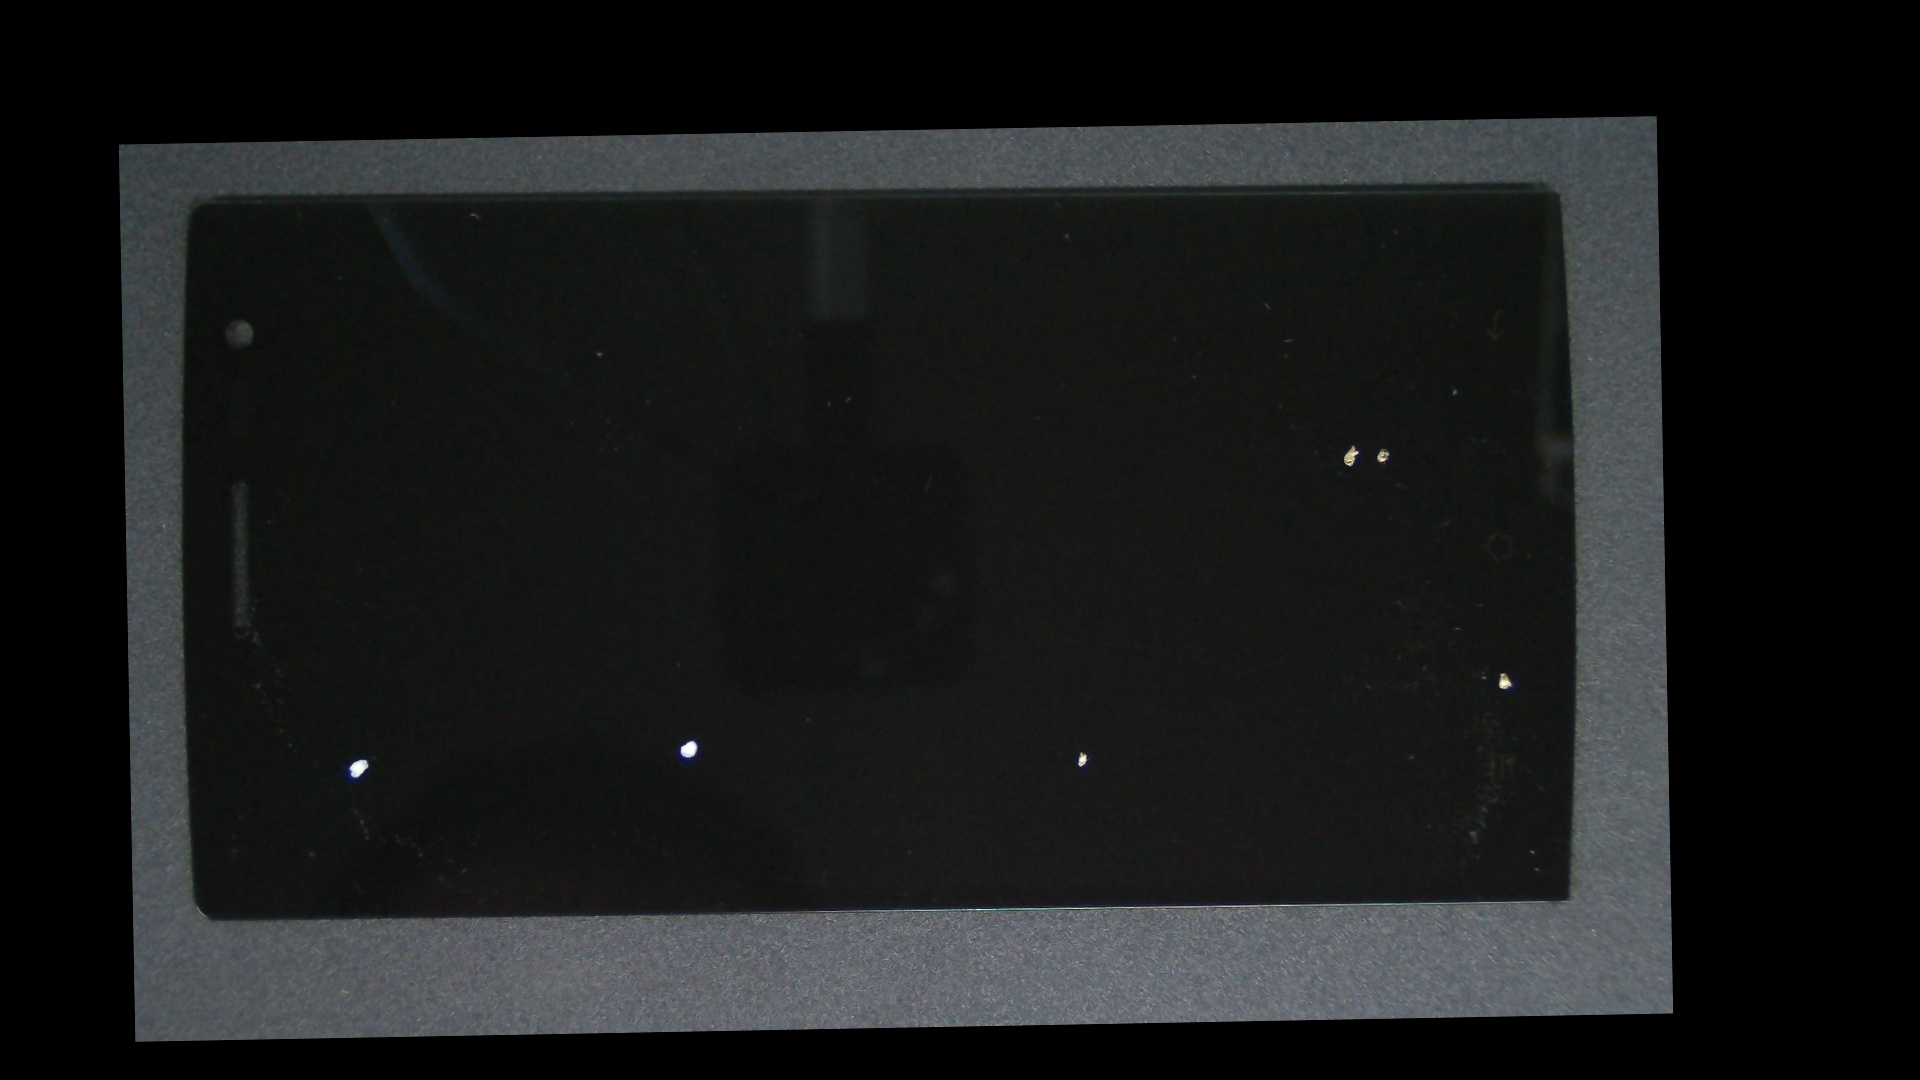oil: (600, 430, 1559, 1033), (811, 392, 1672, 961), (405, 431, 973, 1036), (750, 278, 1665, 624), (737, 277, 1665, 617), (240, 447, 483, 1039)
